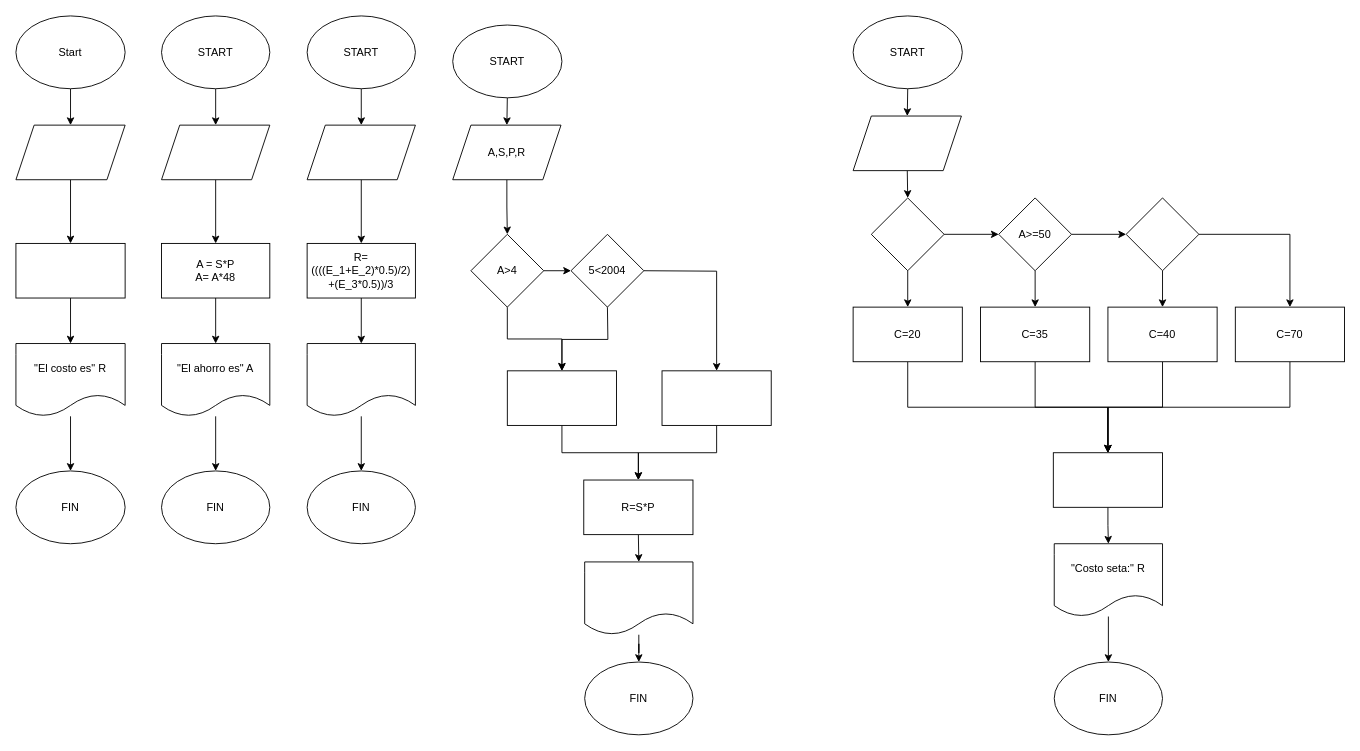
The diagram is 1360 pixels wide and 751 high, and some of its shapes have lost their labels. The centre of each missing label's shape, as x and y in pixels:
"Promedio es" R: [360,379]
"Sueldo final:" R: [638,598]
A,C,R: [906,143]
A>=100: [907,234]
A>=20: [1162,234]
C, K, R: [70,152]
E_1,E_2,E_3,R: [360,152]
P=1.2: [561,397]
P=1.25: [716,397]
R = K * C: [70,270]
R=A*C: [1107,479]
S,A,P=0.85: [215,152]
